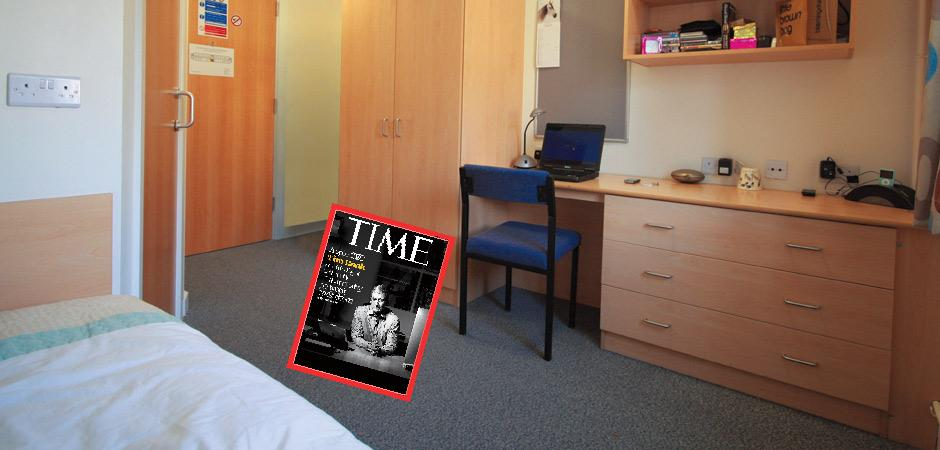times: (283, 200, 457, 401)
